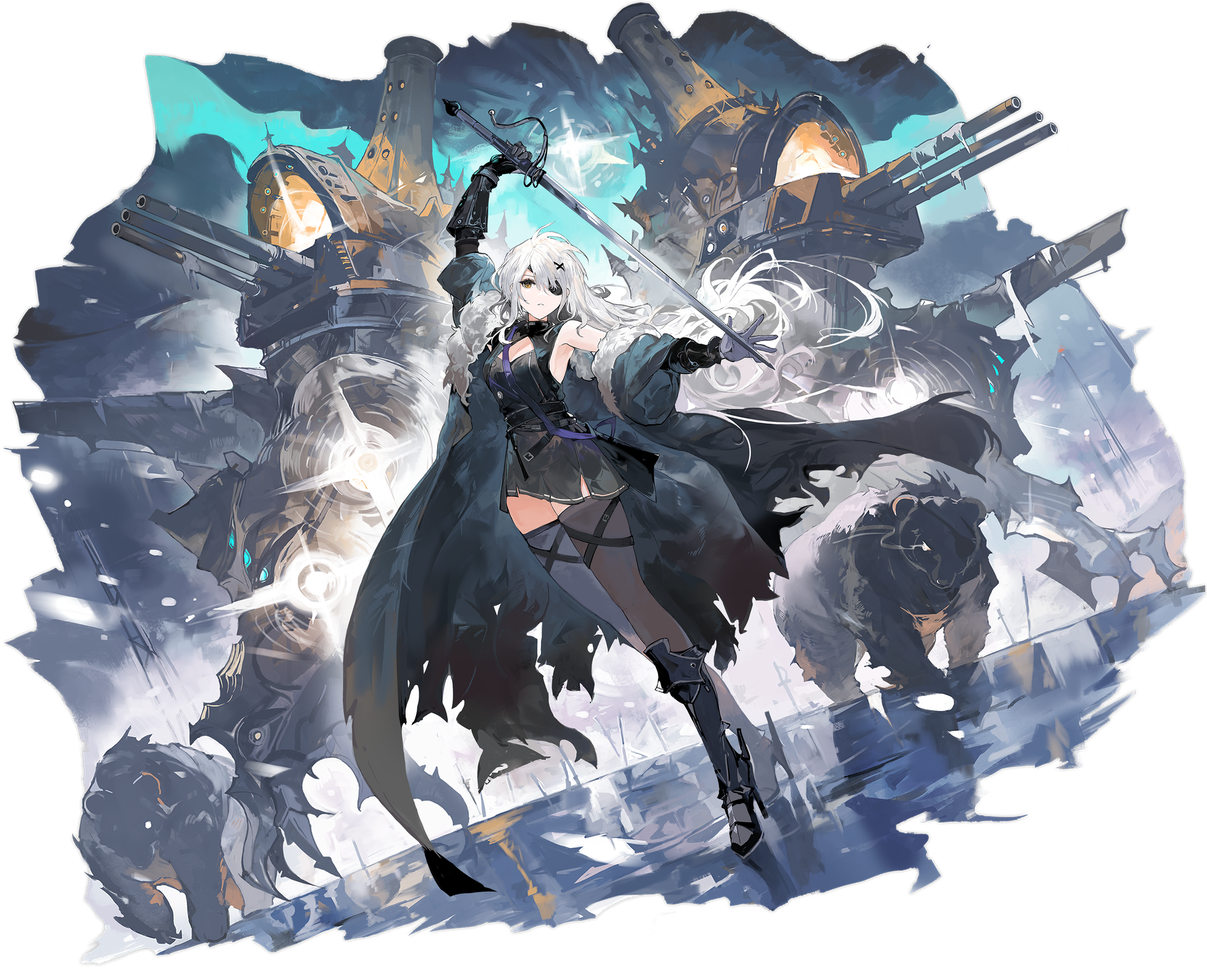person: (364, 203, 802, 890)
